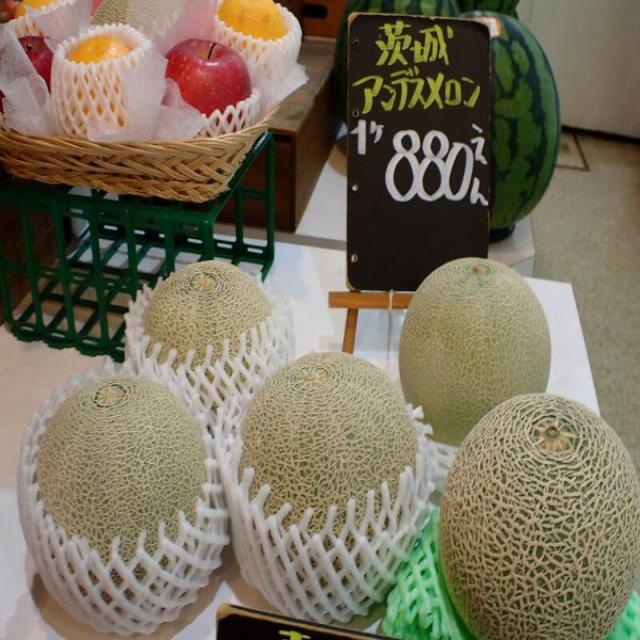melon: (230, 351, 441, 624), (21, 374, 230, 634), (438, 394, 640, 640), (397, 258, 553, 450), (124, 260, 296, 433)
